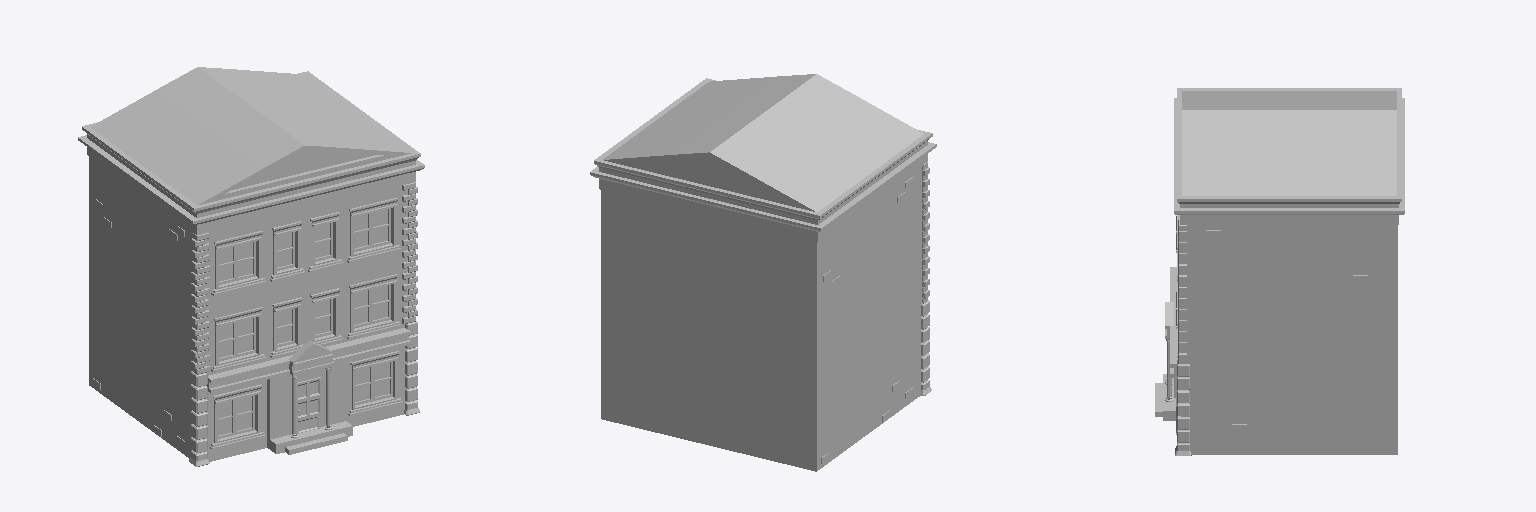
3 renders of one model, left to right at view 1: azimuth 30°, elevation 25°; view 2: azimuth 150°, elevation 25°; view 3: azimuth 270°, elevation 25°, orthographic.
Visible parts, largest first — view 1: Building3_Big.003_Cube.175; view 2: Building3_Big.003_Cube.175; view 3: Building3_Big.003_Cube.175.
Part boxes in pixels (bbox=[...]): Building3_Big.003_Cube.175: bbox=[78, 67, 424, 466]; Building3_Big.003_Cube.175: bbox=[590, 74, 936, 471]; Building3_Big.003_Cube.175: bbox=[1155, 88, 1404, 455].
Size of the model in its own units: 847 by 1022 by 790.